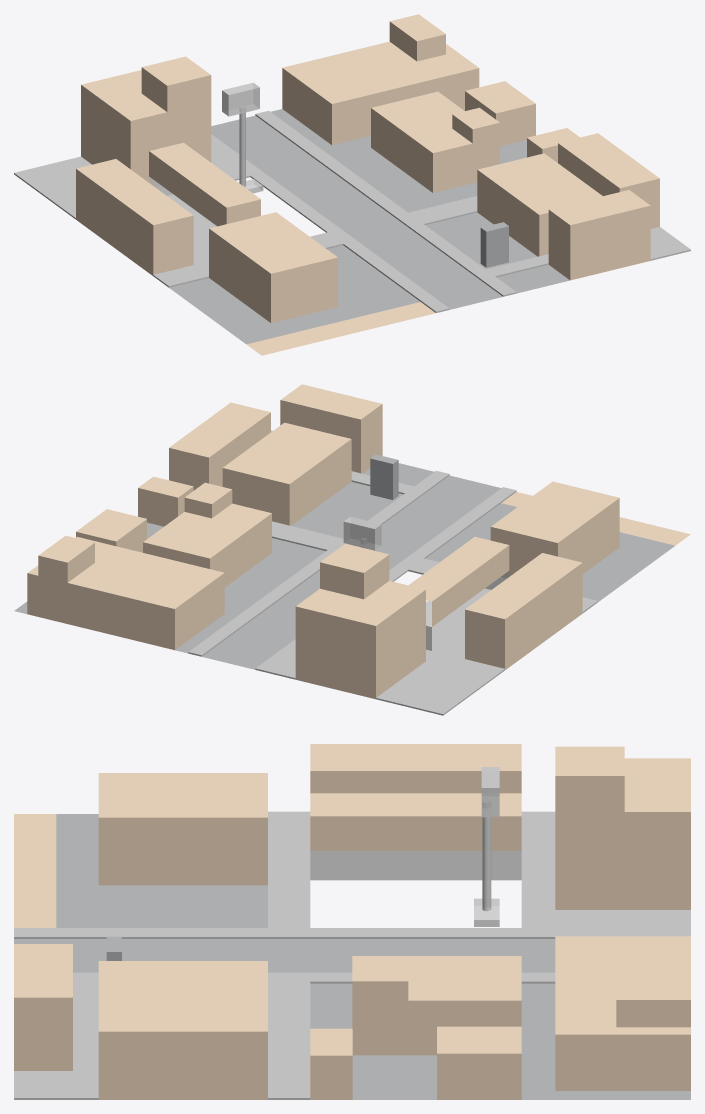
The model's file is map04.gltf.
3 views of the same model, one above another, from view 1: azimuth 30°, elevation 25°; view 2: azimuth 150°, elevation 25°; view 3: azimuth 270°, elevation 25° (orthographic). The views are drawn at different scales.
Parts seen in each view (by area): view 1: Node126, Node56, Node2, Node66, Node1, Node112, Node17, Node7, Node40, Node43, Node53, Node28 (+36 smaller); view 2: Node126, Node9, Node5, Node66, Node2, Node56, Node112, Node43, Node28, Node17, Node53, Node1 (+36 smaller); view 3: Node126, Node8, Node56, Node36, Node46, Node17, Node112, Node66, Node1, Node14, Node12, Node43 (+23 smaller).
Part boxes in pixels (left/top/right/bottom): Node126: left=14, top=134, right=449, bottom=311; Node56: left=169, top=245, right=420, bottom=344; Node2: left=229, top=115, right=502, bottom=303; Node66: left=282, top=41, right=478, bottom=103; Node1: left=211, top=122, right=475, bottom=309; Node112: left=256, top=110, right=690, bottom=295; Node17: left=270, top=109, right=526, bottom=212; Node7: left=130, top=75, right=211, bottom=186; Node40: left=570, top=205, right=650, bottom=280; Node43: left=209, top=212, right=337, bottom=273; Node53: left=76, top=169, right=153, bottom=275; Node28: left=478, top=153, right=602, bottom=214; Node126: left=255, top=487, right=597, bottom=713; Node9: left=27, top=555, right=174, bottom=650; Node5: left=295, top=606, right=375, bottom=699; Node66: left=28, top=537, right=224, bottom=608; Node2: left=202, top=475, right=475, bottom=663; Node56: left=425, top=503, right=674, bottom=601; Node112: left=189, top=430, right=448, bottom=655; Node43: left=491, top=481, right=619, bottom=542; Node28: left=223, top=422, right=350, bottom=484; Node17: left=14, top=522, right=325, bottom=653; Node53: left=505, top=563, right=582, bottom=669; Node1: left=229, top=482, right=501, bottom=669; Node126: left=14, top=811, right=690, bottom=936; Node8: left=555, top=776, right=690, bottom=909; Node56: left=56, top=814, right=267, bottom=927; Node36: left=98, top=1031, right=267, bottom=1099; Node46: left=98, top=817, right=267, bottom=885; Node17: left=310, top=983, right=690, bottom=1099; Node112: left=14, top=972, right=555, bottom=1097; Node66: left=555, top=936, right=690, bottom=1034; Node1: left=14, top=939, right=555, bottom=956; Node14: left=352, top=981, right=521, bottom=1055; Node12: left=555, top=1034, right=690, bottom=1090; Node43: left=98, top=773, right=267, bottom=817.
Size of the model in its own units: 2139194 by 484008 by 2139194.
